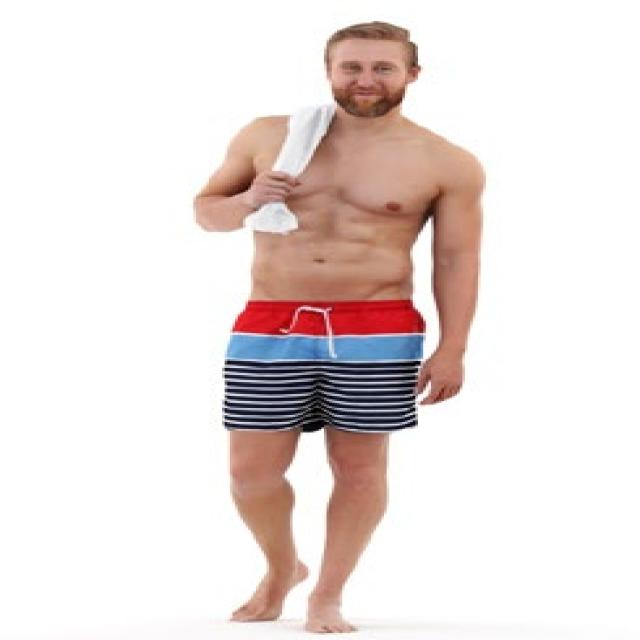standing: (188, 20, 493, 636)
